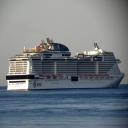cruises: (6, 38, 127, 93)
